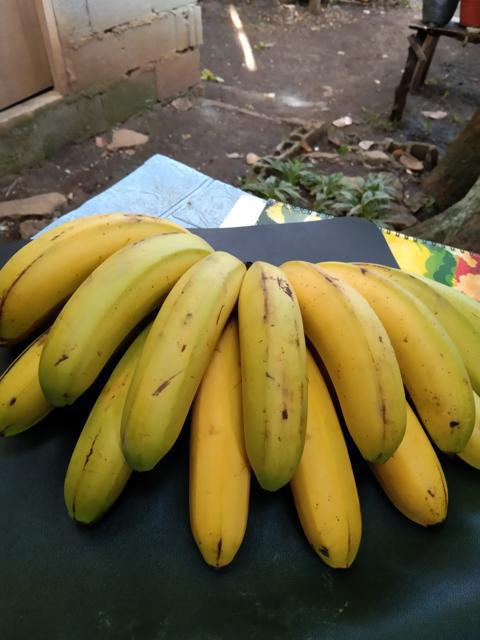freshripe: (117, 249, 245, 468), (290, 256, 405, 464), (0, 203, 175, 335), (231, 254, 311, 480)
